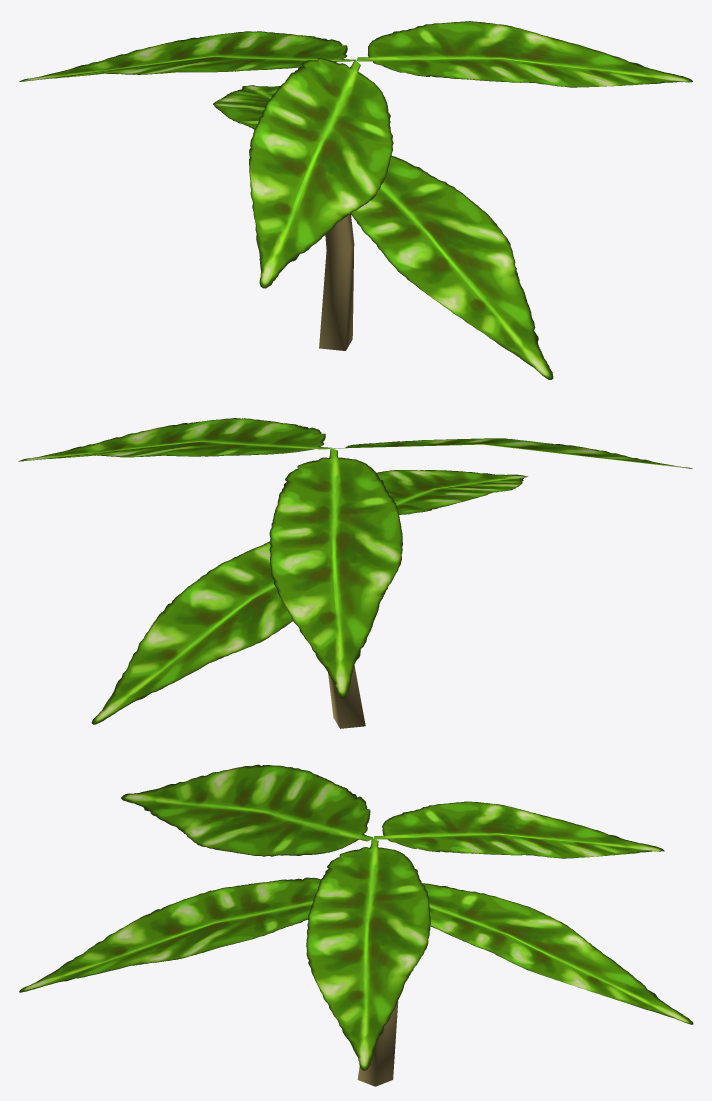
The model's file is cacau broto.fbx.
3 views of the same model, one above another, from view 1: azimuth 30°, elevation 25°; view 2: azimuth 150°, elevation 25°; view 3: azimuth 270°, elevation 25° (orthographic). The views are drawn at different scales.
Visible parts, largest first — view 1: cacau broto; view 2: cacau broto; view 3: cacau broto.
Boxes of the visible parts, x1,y1,x2,y2 form: cacau broto: (19, 21, 692, 379); cacau broto: (18, 418, 692, 728); cacau broto: (19, 764, 693, 1086).
Size of the model in its own units: 131 by 66.78 by 151.
2 materials, 1 textured.
